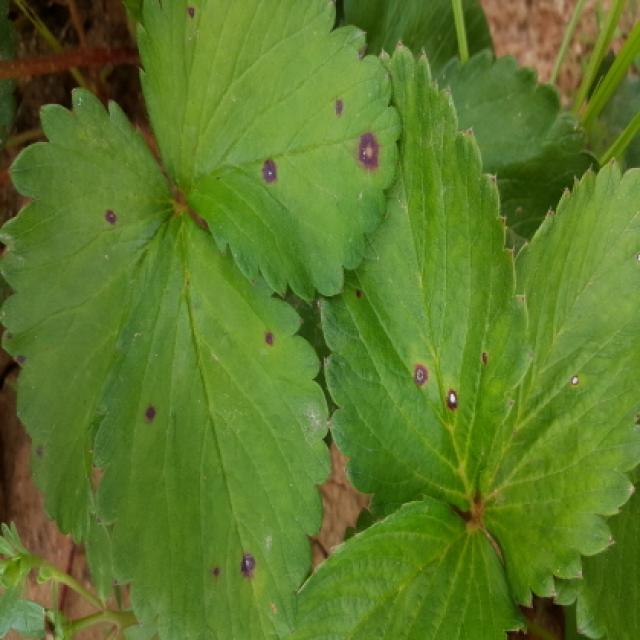Leaf Spot: (88, 211, 333, 638), (319, 39, 533, 521), (136, 0, 403, 304), (2, 87, 176, 548), (472, 156, 640, 610)
